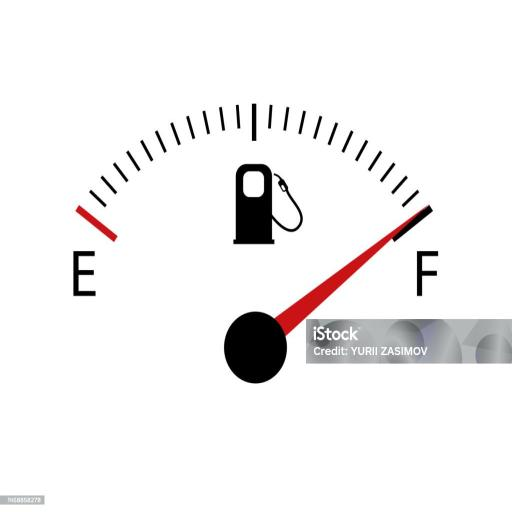empty: (72, 244, 97, 302)
fuel_icon: (229, 164, 304, 250)
full: (414, 248, 444, 298)
guage_area: (63, 95, 446, 397)
needle_center: (214, 307, 294, 391)
needle_tip: (401, 199, 436, 240)
